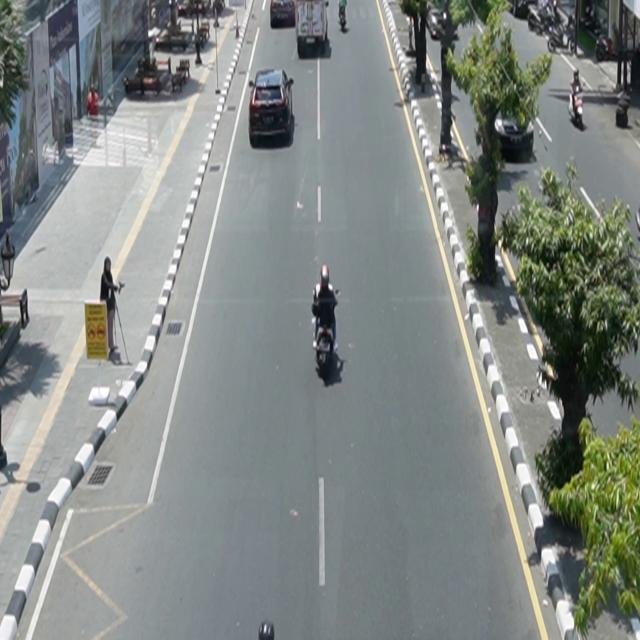car: (249, 69, 295, 148), (494, 103, 535, 158), (271, 1, 297, 29)
